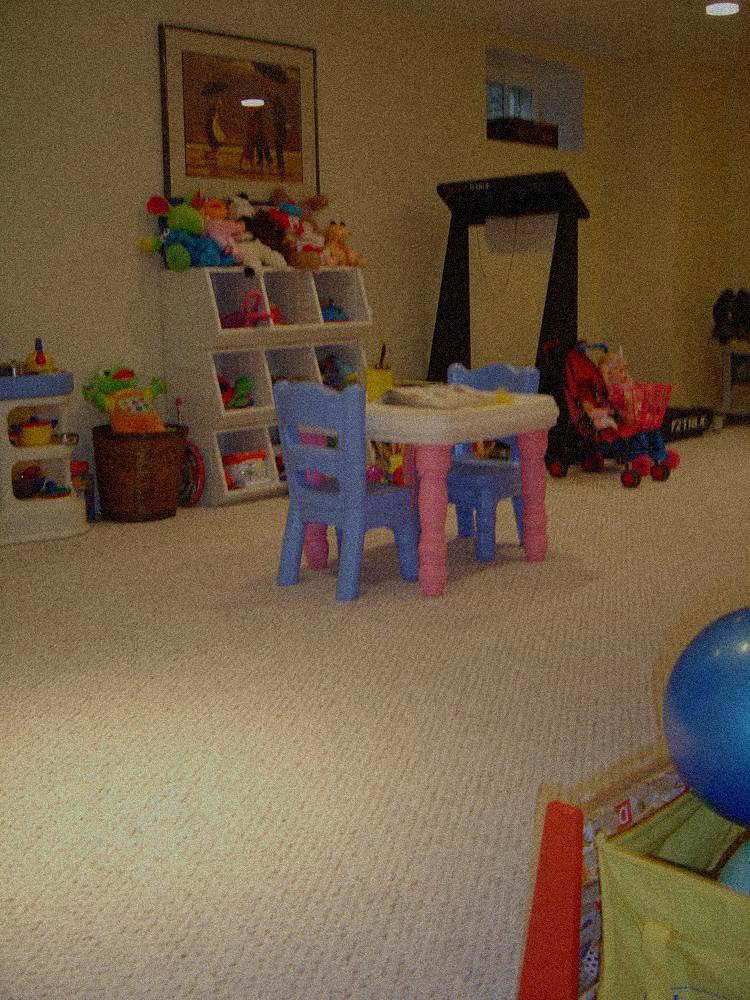Otro Obstaculo: (428, 170, 733, 449), (495, 664, 749, 998), (554, 330, 681, 521)
